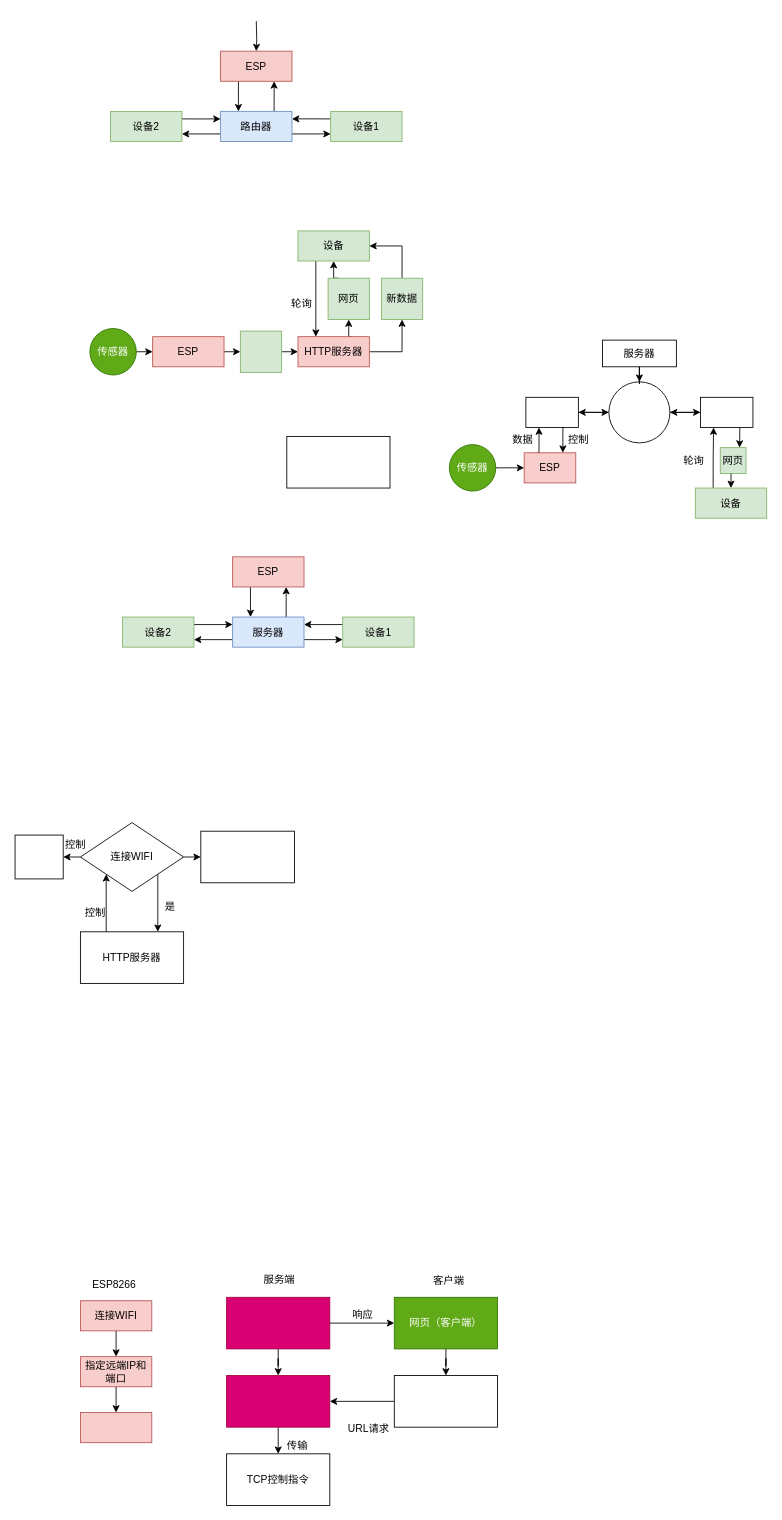
This 782x1520 diagram has some shape labels left out. Here are the shapes that lost their labels. From the top down, the centre of each, then its label:
At point (261, 351): "更新数据".
At point (551, 411): "TCP".
At point (639, 412): "服务进程".
At point (726, 411): "HTTP".
At point (38, 856): "LED".
At point (247, 856): "串口打印控制信息".
At point (278, 1322): "HTTP TCP".
At point (278, 1401): "分析URL".
At point (445, 1401): "按钮".
At point (116, 1427): "建立TCP连接".
